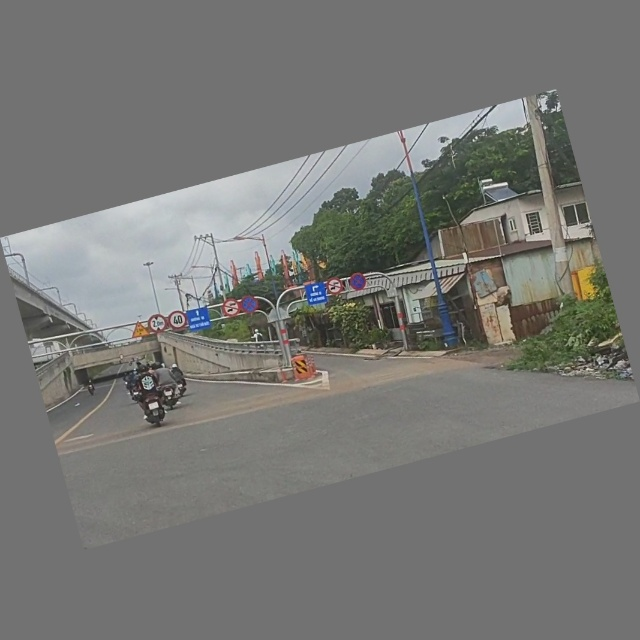P.107: (220, 297, 242, 319), (325, 277, 345, 298)
P.117*: (146, 312, 170, 337)
P.127*40: (166, 309, 190, 332)
P.130: (347, 271, 369, 294), (239, 294, 260, 316)
W.239b*: (127, 319, 150, 342)
